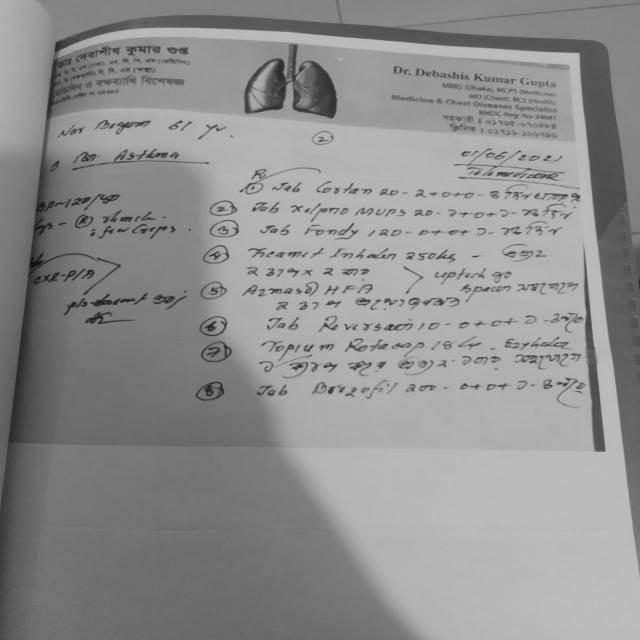Azmasol HFA: (236, 278, 380, 301)
Brezofil: (306, 378, 405, 403)
Cortan: (310, 178, 376, 202)
Reversair: (310, 313, 421, 335)
Ticamet Inhaler: (245, 238, 400, 262)
Topium Rotacap: (260, 333, 428, 356)
Xelpro: (285, 199, 410, 222)
